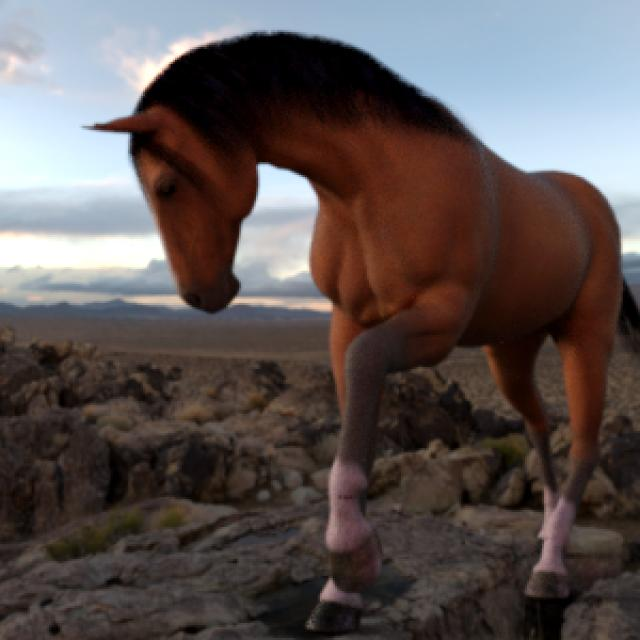horse: (92, 32, 640, 633)
